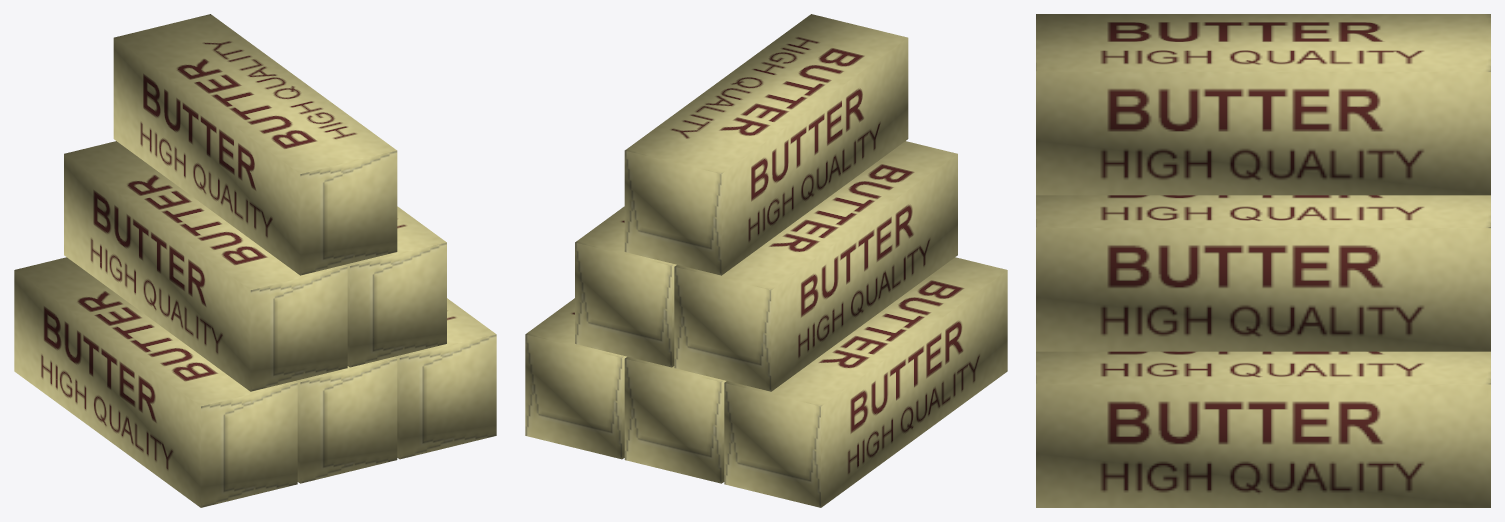
File: Butter.fbx
3 views of the same model, side by side, from view 1: azimuth 30°, elevation 25°; view 2: azimuth 150°, elevation 25°; view 3: azimuth 270°, elevation 25° (orthographic). The views are drawn at different scales.
Visible parts, largest first — view 1: Butter.005, Butter.004, Butter.001, Butter.003, Butter.002, Butter; view 2: Butter.005, Butter.004, Butter.001, Butter.003, Butter.002, Butter; view 3: Butter.005, Butter.003, Butter.002.
Part boxes in pixels (left/top/right/bottom): Butter.005: left=113, top=14, right=397, bottom=275; Butter.004: left=64, top=141, right=347, bottom=391; Butter.001: left=14, top=257, right=297, bottom=507; Butter.003: left=345, top=206, right=446, bottom=367; Butter.002: left=395, top=298, right=496, bottom=459; Butter: left=295, top=356, right=397, bottom=483; Butter.005: left=624, top=14, right=908, bottom=275; Butter.004: left=674, top=141, right=957, bottom=391; Butter.001: left=724, top=257, right=1007, bottom=507; Butter.003: left=575, top=206, right=676, bottom=367; Butter.002: left=525, top=298, right=626, bottom=459; Butter: left=624, top=356, right=726, bottom=483; Butter.005: left=1036, top=14, right=1490, bottom=195; Butter.003: left=1036, top=195, right=1490, bottom=351; Butter.002: left=1036, top=351, right=1490, bottom=507.
Bounding box in the file's own units: 11.9 × 11.9 × 13.
